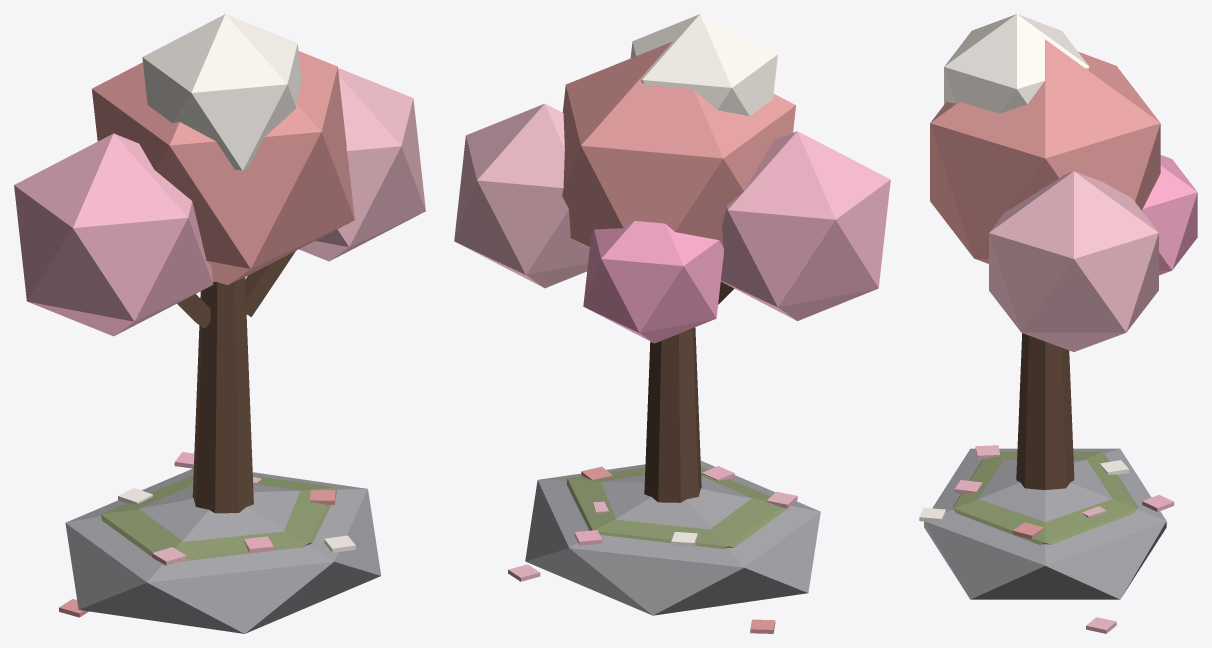
The model's file is CatCafe_Decor_GroveBlossomTree.glb.
3 renders of one model, left to right at view 1: azimuth 30°, elevation 25°; view 2: azimuth 150°, elevation 25°; view 3: azimuth 270°, elevation 25°, orthographic. The views are drawn at different scales.
Parts seen in each view (by area): view 1: CatCafe_Decor_GroveBlossomTree; view 2: CatCafe_Decor_GroveBlossomTree; view 3: CatCafe_Decor_GroveBlossomTree.
Part boxes in pixels (x1=…): CatCafe_Decor_GroveBlossomTree: x1=14, y1=14, x2=425, y2=633; CatCafe_Decor_GroveBlossomTree: x1=454, y1=14, x2=890, y2=633; CatCafe_Decor_GroveBlossomTree: x1=919, y1=14, x2=1197, y2=633.
Size of the model in its own units: 3.07 by 4.3 by 1.95.
Materials: 1 (1 with a texture image).
